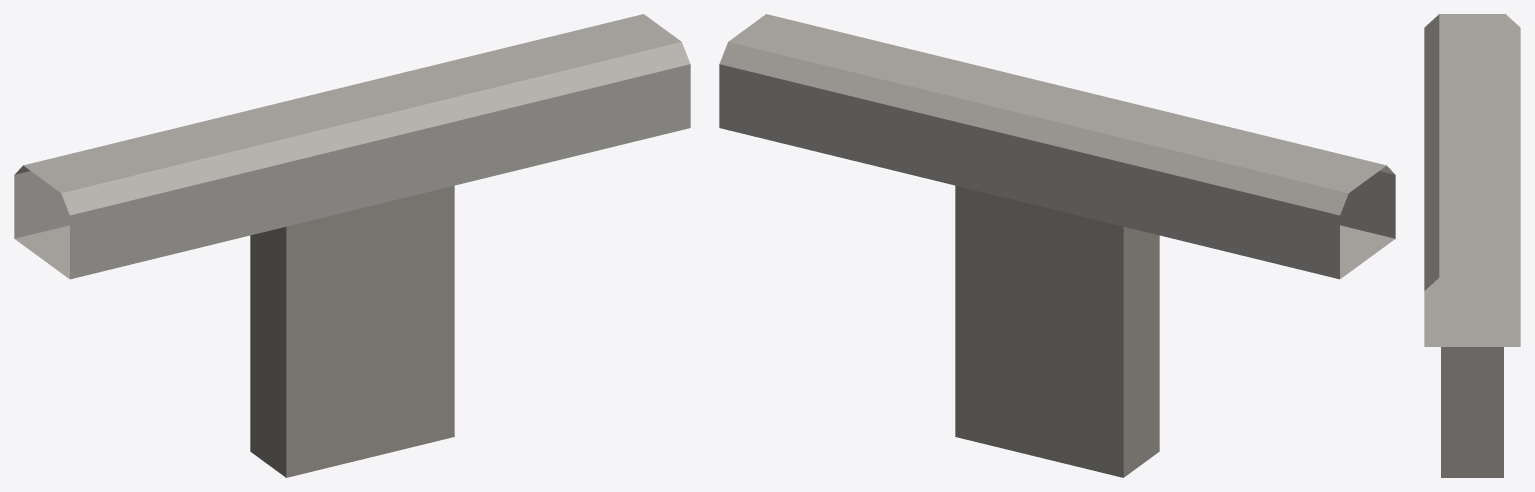
The model's file is Stage Fence 02 Mid.FBX.
The picture shows the model from 3 angles, left to right: view 1: azimuth 30°, elevation 25°; view 2: azimuth 150°, elevation 25°; view 3: azimuth 270°, elevation 25°; orthographic projection. The views are drawn at different scales.
Visible parts, largest first — view 1: Stage Fence 02 Mid; view 2: Stage Fence 02 Mid; view 3: Stage Fence 02 Mid.
Part boxes in pixels (left/top/right/bottom): Stage Fence 02 Mid: left=14, top=14, right=690, bottom=477; Stage Fence 02 Mid: left=719, top=14, right=1395, bottom=477; Stage Fence 02 Mid: left=1424, top=14, right=1520, bottom=477.
Size of the model in its own units: 100 by 52.44 by 15.49.
1 material, 1 textured.
